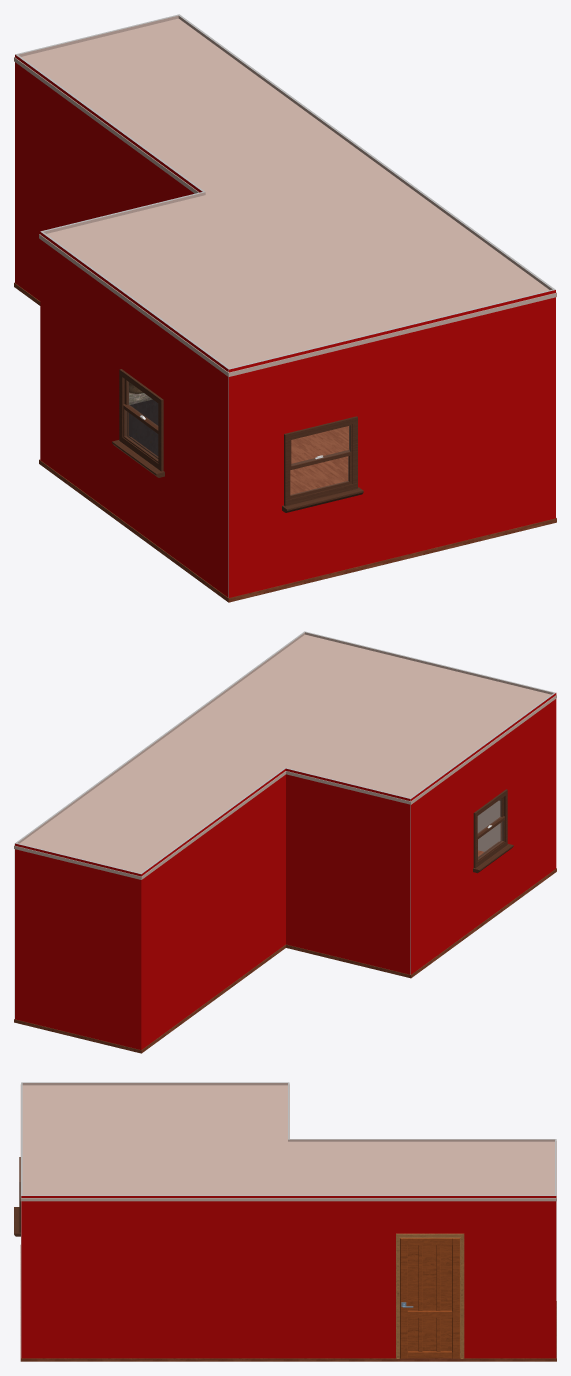
The model's file is ProcTHOR-Train-96.glb.
3 views of the same model, one above another, from view 1: azimuth 30°, elevation 25°; view 2: azimuth 150°, elevation 25°; view 3: azimuth 270°, elevation 25° (orthographic). The views are drawn at different scales.
Parts seen in each view (by area): view 1: Ceiling#room|2|c, WallInside#wall|exterior|0.00|8.16|4.08|8.16, WallInside#wall|exterior|4.08|4.08|4.08|8.16, WallInside#wall|exterior|2.04|0.00|2.04|4.08, Window_Hung_36x32 (×2), Floor#room|2|f, WallInside#wall|2|0.00|0.00|0.00|8.16, Countertop_Island_10x3; view 2: Ceiling#room|2|c, WallInside#wall|exterior|2.04|0.00|2.04|4.08, WallInside#wall|exterior|4.08|4.08|4.08|8.16, WallInside#wall|exterior|0.00|0.00|2.04|0.00, WallInside#wall|exterior|2.04|4.08|4.08|4.08, Floor#room|2|f, WallInside#wall|2|0.00|8.16|4.08|8.16, Window_Hung_36x32, WallInside#wall|2|0.00|0.00|0.00|8.16, WallInside#wall|exterior|0.00|0.00|0.00|8.16; view 3: WallInside#wall|exterior|0.00|0.00|0.00|8.16, Ceiling#room|2|c, Doorway_10, Floor#room|2|f, WallInside#wall|2|4.08|4.08|4.08|8.16, WallInside#wall|2|2.04|0.00|2.04|4.08, WallInside#wall|2|0.00|0.00|0.00|8.16.
Part boxes in pixels (bbox=[...]): Ceiling#room|2|c: bbox=[14, 18, 556, 376]; WallInside#wall|exterior|0.00|8.16|4.08|8.16: bbox=[229, 289, 555, 597]; WallInside#wall|exterior|4.08|4.08|4.08|8.16: bbox=[40, 231, 229, 597]; WallInside#wall|exterior|2.04|0.00|2.04|4.08: bbox=[15, 54, 203, 300]; Window_Hung_36x32 (×2): bbox=[112, 369, 363, 512]; Floor#room|2|f: bbox=[14, 282, 556, 602]; WallInside#wall|2|0.00|0.00|0.00|8.16: bbox=[178, 14, 554, 289]; Countertop_Island_10x3: bbox=[129, 392, 158, 456]; Ceiling#room|2|c: bbox=[14, 634, 556, 879]; WallInside#wall|exterior|2.04|0.00|2.04|4.08: bbox=[141, 768, 285, 1049]; WallInside#wall|exterior|4.08|4.08|4.08|8.16: bbox=[411, 692, 556, 974]; WallInside#wall|exterior|0.00|0.00|2.04|0.00: bbox=[15, 843, 141, 1049]; WallInside#wall|exterior|2.04|4.08|4.08|4.08: bbox=[285, 768, 410, 974]; Floor#room|2|f: bbox=[14, 850, 556, 1053]; WallInside#wall|2|0.00|8.16|4.08|8.16: bbox=[304, 631, 554, 851]; Window_Hung_36x32: bbox=[473, 789, 513, 873]; WallInside#wall|2|0.00|0.00|0.00|8.16: bbox=[16, 631, 305, 843]; WallInside#wall|exterior|0.00|0.00|0.00|8.16: bbox=[14, 631, 304, 1018]; WallInside#wall|exterior|0.00|0.00|0.00|8.16: bbox=[21, 1195, 556, 1358]; Ceiling#room|2|c: bbox=[20, 1084, 556, 1201]; Doorway_10: bbox=[396, 1233, 464, 1358]; Floor#room|2|f: bbox=[20, 1245, 556, 1361]; WallInside#wall|2|4.08|4.08|4.08|8.16: bbox=[22, 1082, 288, 1085]; WallInside#wall|2|2.04|0.00|2.04|4.08: bbox=[288, 1139, 555, 1141]; WallInside#wall|2|0.00|0.00|0.00|8.16: bbox=[21, 1195, 554, 1195].
Size of what is drawn, in the model's own units: 4.32 by 2.79 by 8.3.
Materials: 115 (51 with a texture image).
